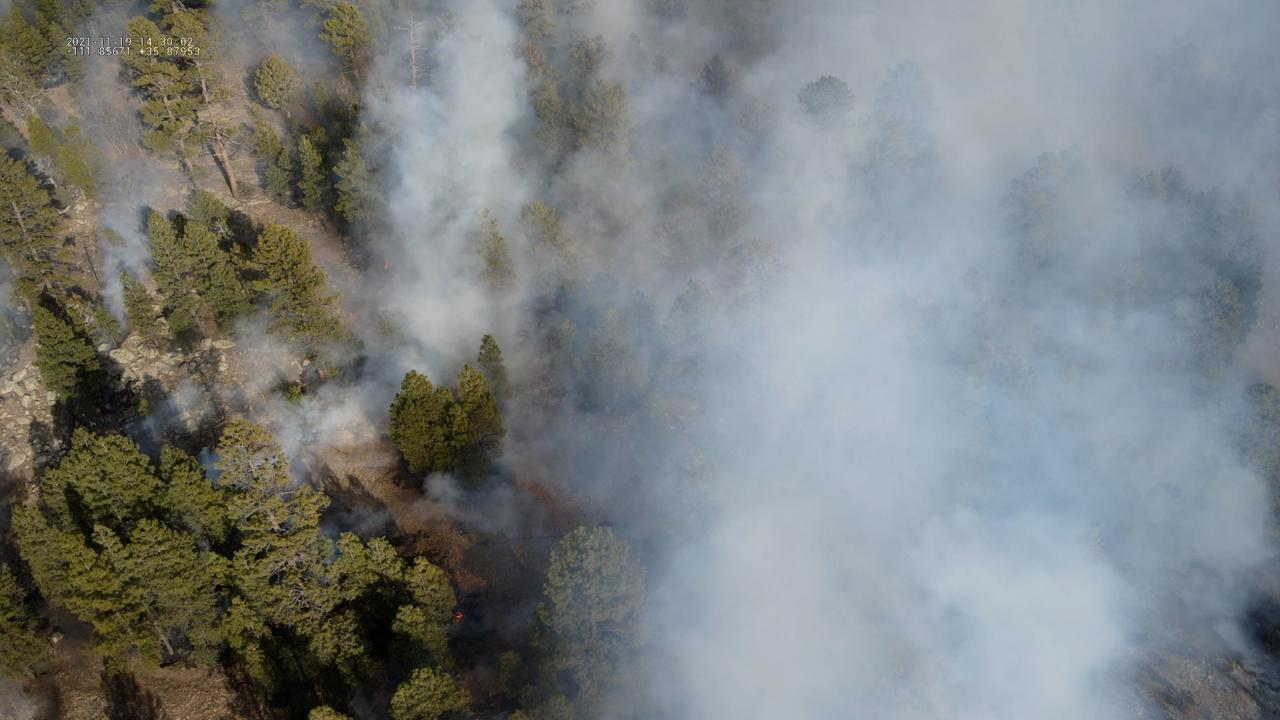fire: (452, 609, 466, 625)
smoke: (0, 0, 1280, 720)
